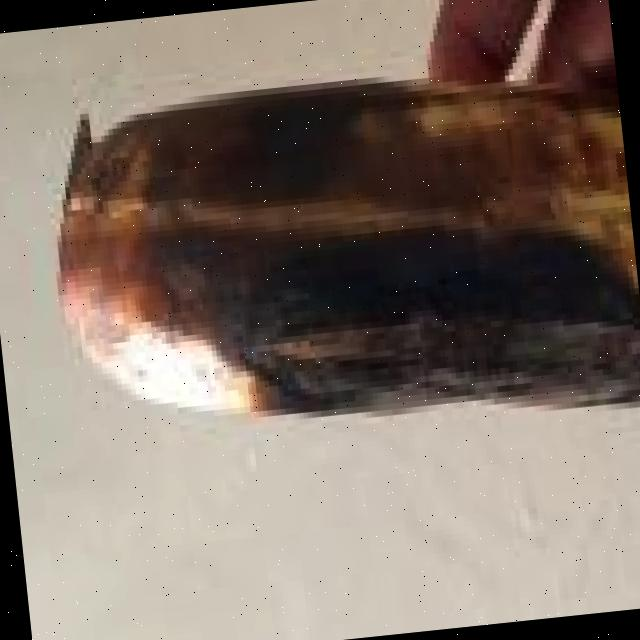Bad_Banana-0 day: (58, 83, 640, 410)
